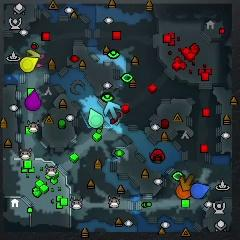p1: (190, 183, 211, 198)
p2: (88, 108, 104, 128)
p3: (25, 90, 41, 110)
p4: (20, 57, 38, 72)
p5: (176, 185, 191, 199)
x1: (35, 53, 44, 68)
x2: (26, 48, 39, 58)
x3: (104, 102, 120, 119)
x5: (179, 173, 194, 191)
